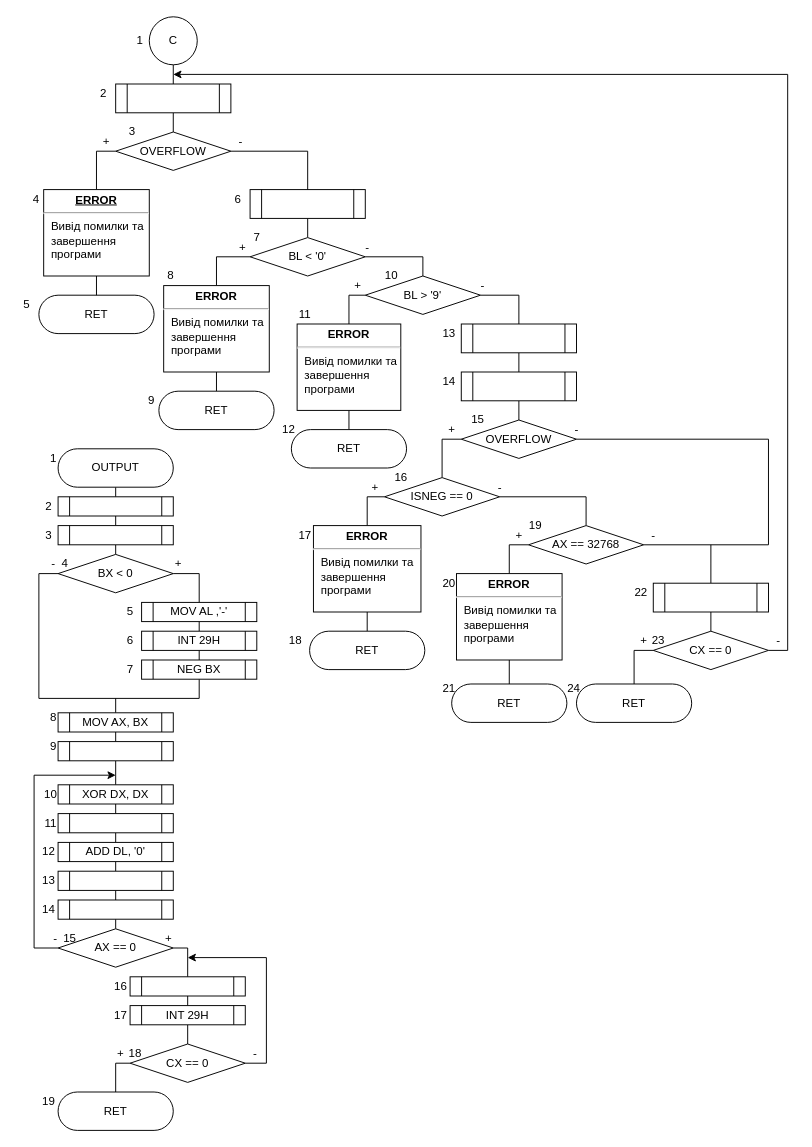
The diagram is 812 pixels wide and 1147 high, and some of its shapes have lost their labels. Each missing label, with the centre of its shape:
ADD AX, BX: point 518,386
DIV TEN: point 115,823
IMUL TEN: point 173,98
INC CX: point 115,909
INC SI: point 710,597
MOV BL, [SI]: point 307,203
MOV BX, NUM: point 115,506
OR BX, BX: point 115,535
POP AX: point 187,986
PUSH DX: point 115,880
SUB BL, '0': point 518,338
XOR CX, CX: point 115,751
